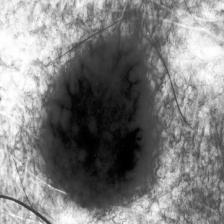Benign Marking or Mole: (40, 50, 166, 204)
